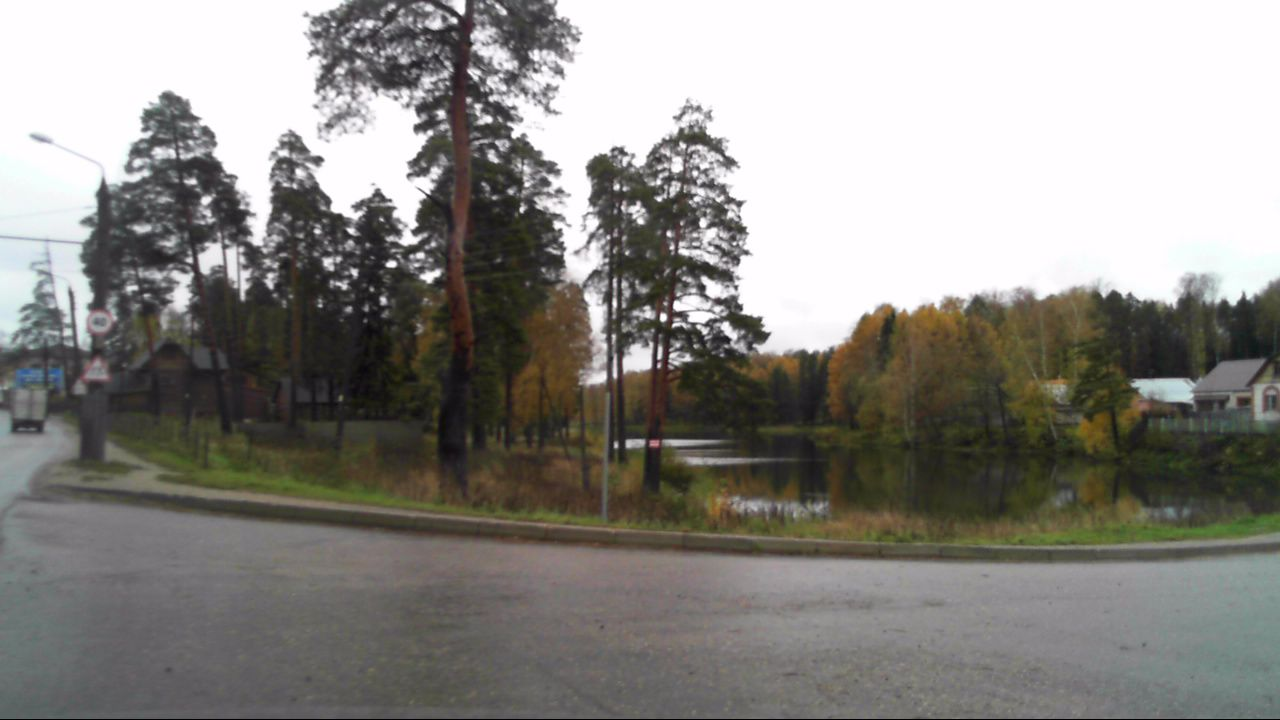speed_warning_40: (87, 308, 115, 338)
